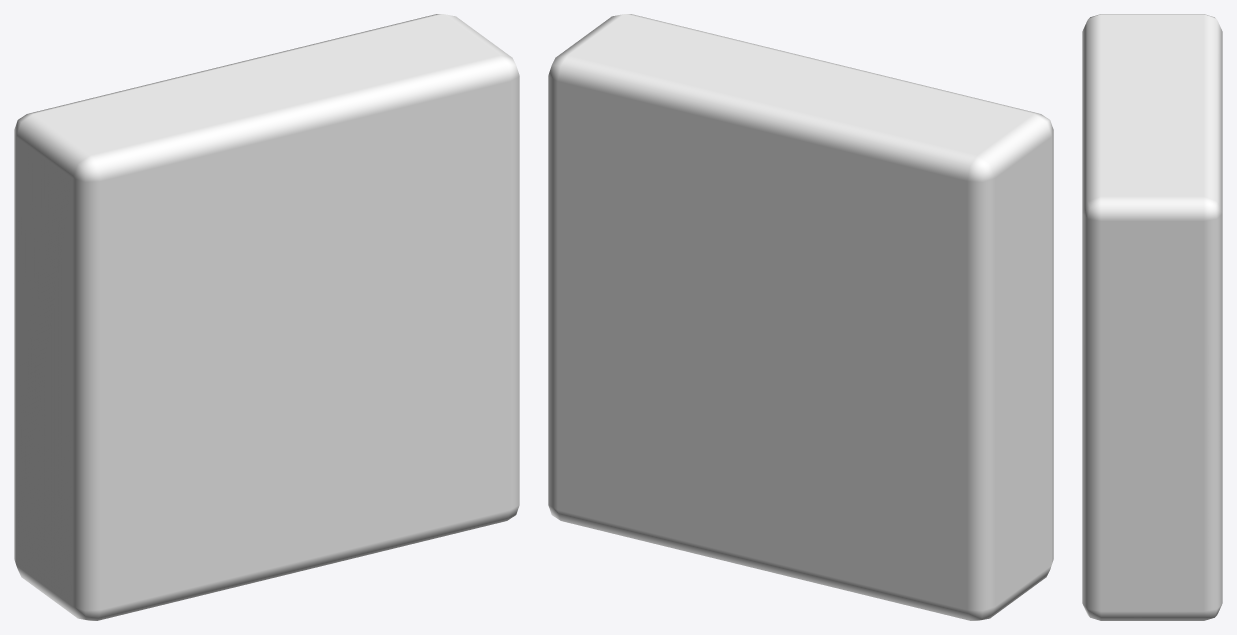
File: wall.fbx
3 views of the same model, side by side, from view 1: azimuth 30°, elevation 25°; view 2: azimuth 150°, elevation 25°; view 3: azimuth 270°, elevation 25° (orthographic). The views are drawn at different scales.
Parts seen in each view (by area): view 1: wall; view 2: wall; view 3: wall.
Part boxes in pixels (x1=…): wall: x1=14, y1=14, x2=519, y2=620; wall: x1=548, y1=14, x2=1053, y2=620; wall: x1=1082, y1=14, x2=1222, y2=620.
Bounding box in the file's own units: 100 × 100 × 30.
